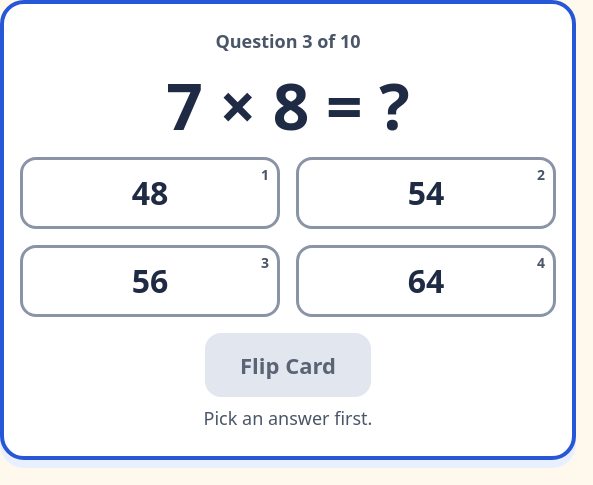
Test case: answer selection › keeps Flip Card disabled until an answer is selected
Expected: the button "Flip Card" is disabled, x1=205 y1=333 x2=371 y2=397
Click the button "54 2": (426, 193) x1=296 y1=157 x2=556 y2=229
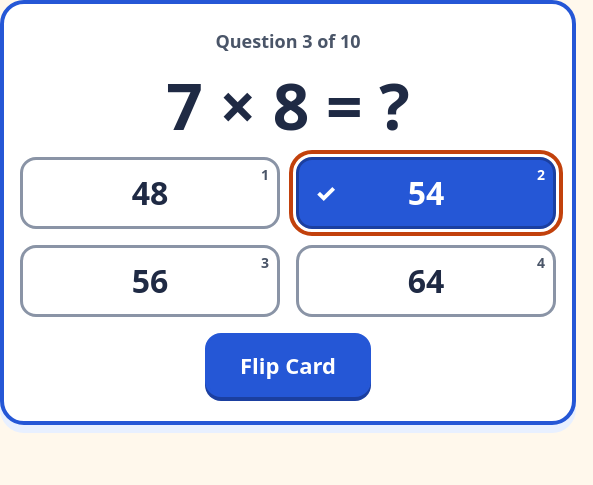
Now the button "Flip Card" is enabled, box x1=205 y1=333 x2=371 y2=397
Now the text "Pick an answer first." is gone
